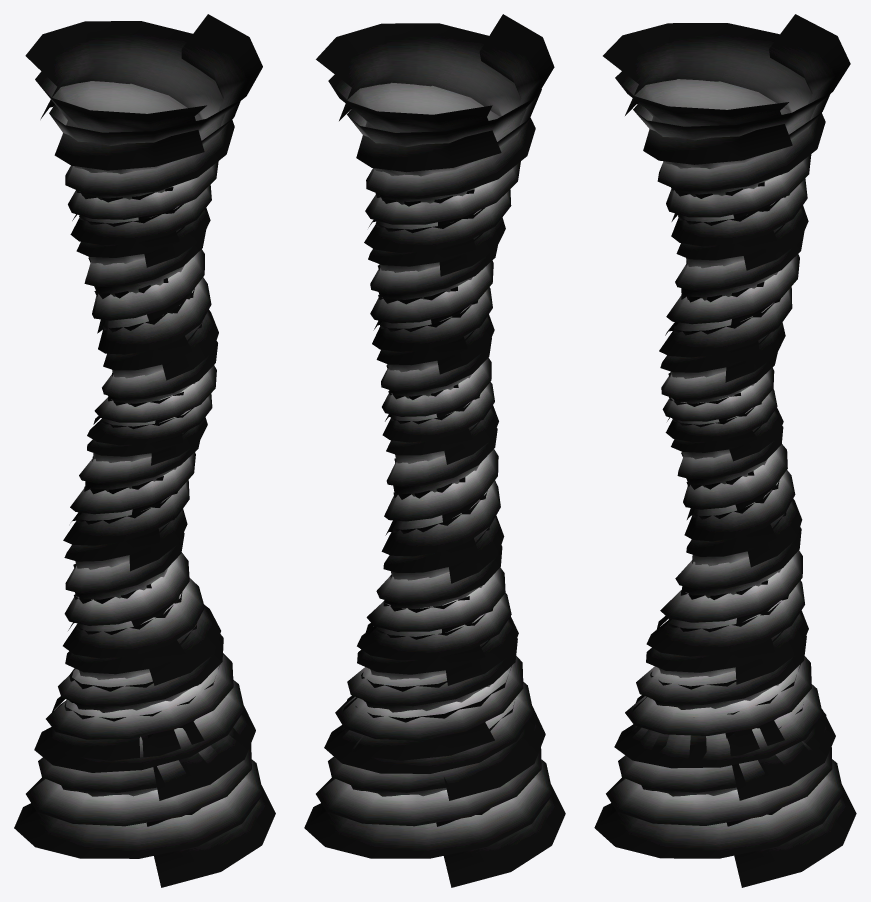
The model's file is vfx_kurp_1187.dae.
The picture shows the model from 3 angles, left to right: view 1: azimuth 30°, elevation 25°; view 2: azimuth 150°, elevation 25°; view 3: azimuth 270°, elevation 25°; orthographic projection.
Parts seen in each view (by area): view 1: vfx_kurp_1187; view 2: vfx_kurp_1187; view 3: vfx_kurp_1187.
Boxes of the visible parts, left/top/right/bottom form: vfx_kurp_1187: left=14, top=14, right=275, bottom=887; vfx_kurp_1187: left=304, top=14, right=565, bottom=887; vfx_kurp_1187: left=594, top=14, right=856, bottom=887.
Size of the model in its own units: 10.54 by 10.35 by 33.66.
Materials: 1 (1 with a texture image).
